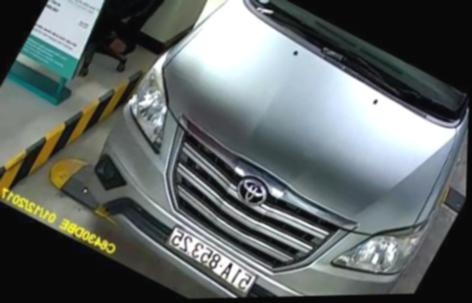License_Plate: (160, 223, 261, 298)
